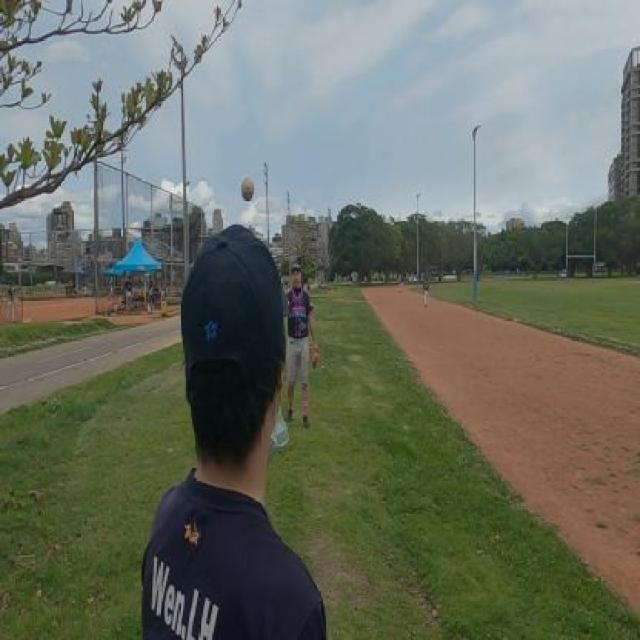baseball: (241, 178, 256, 202)
